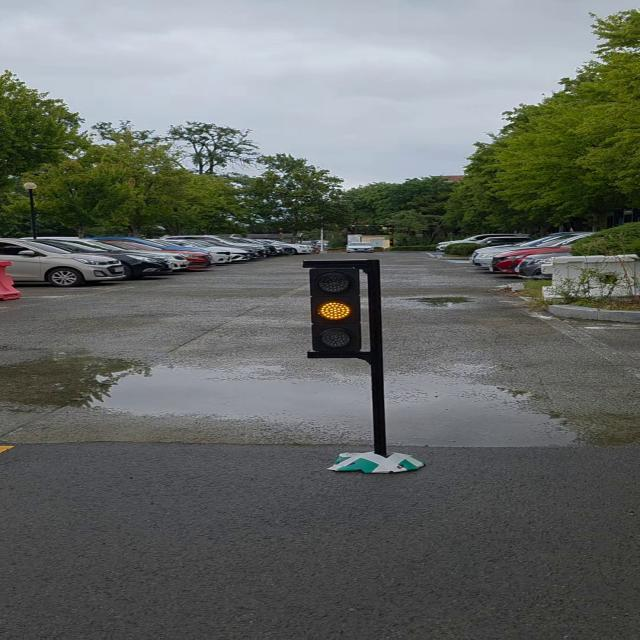yellow: (308, 263, 366, 356)
